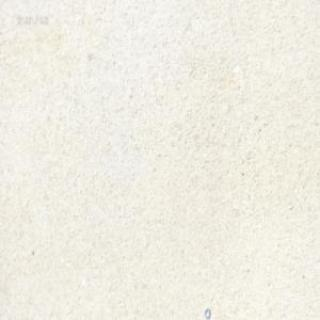Washertrack_idkeyframe: (203, 306, 209, 319)
